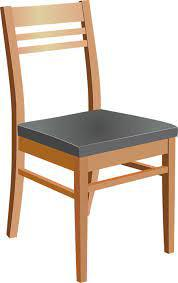chair: (1, 5, 177, 268)
